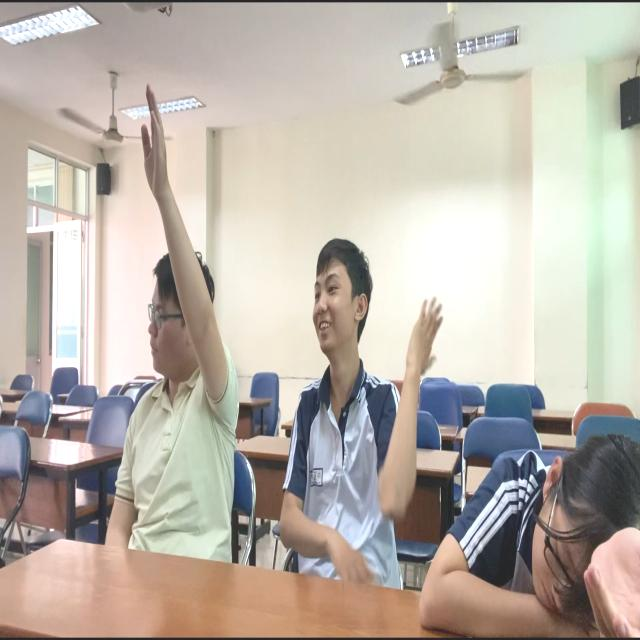raise_hand: (96, 79, 239, 571)
sleep: (422, 435, 640, 640)
